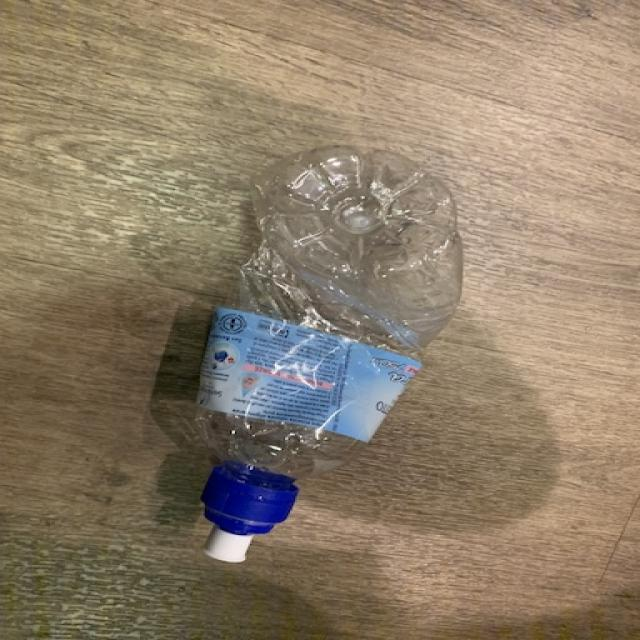Waste: (197, 148, 463, 564)
